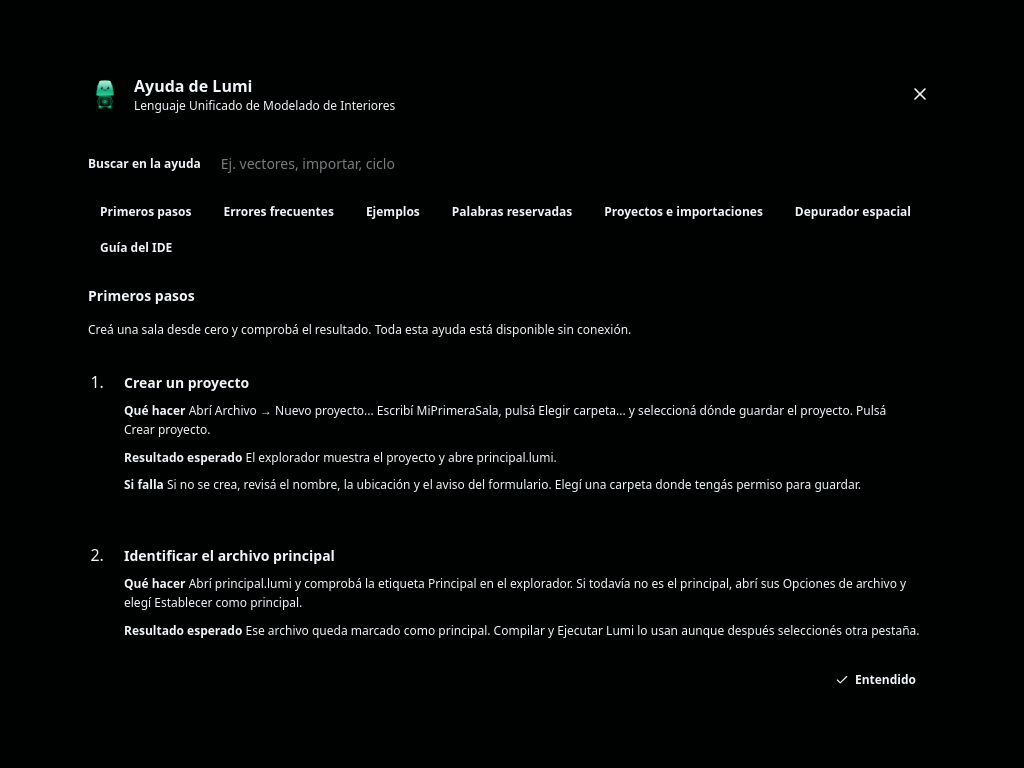
DocumentationModal › searches procedures and keeps their action, outcome and recovery available
Type "exportar" into the search field labelled "Buscar en la ayuda" at (572, 164), box [209,146,936,182]
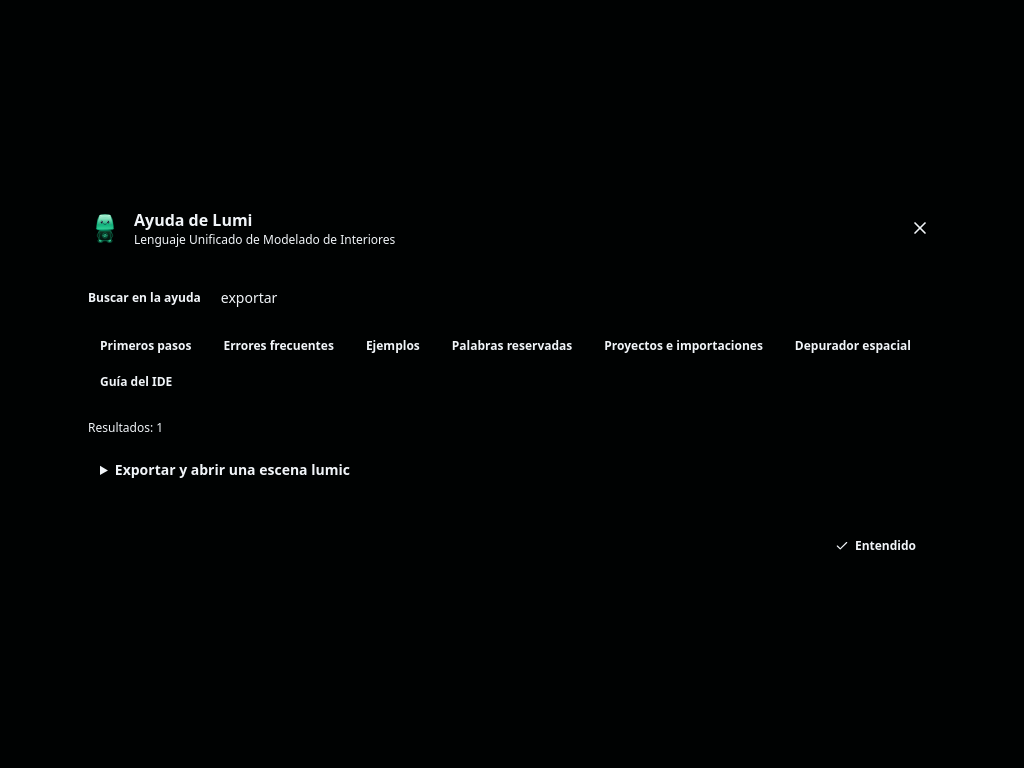
Click the heading "Exportar y abrir una escena lumic" at (232, 470), box [115,460,350,479]
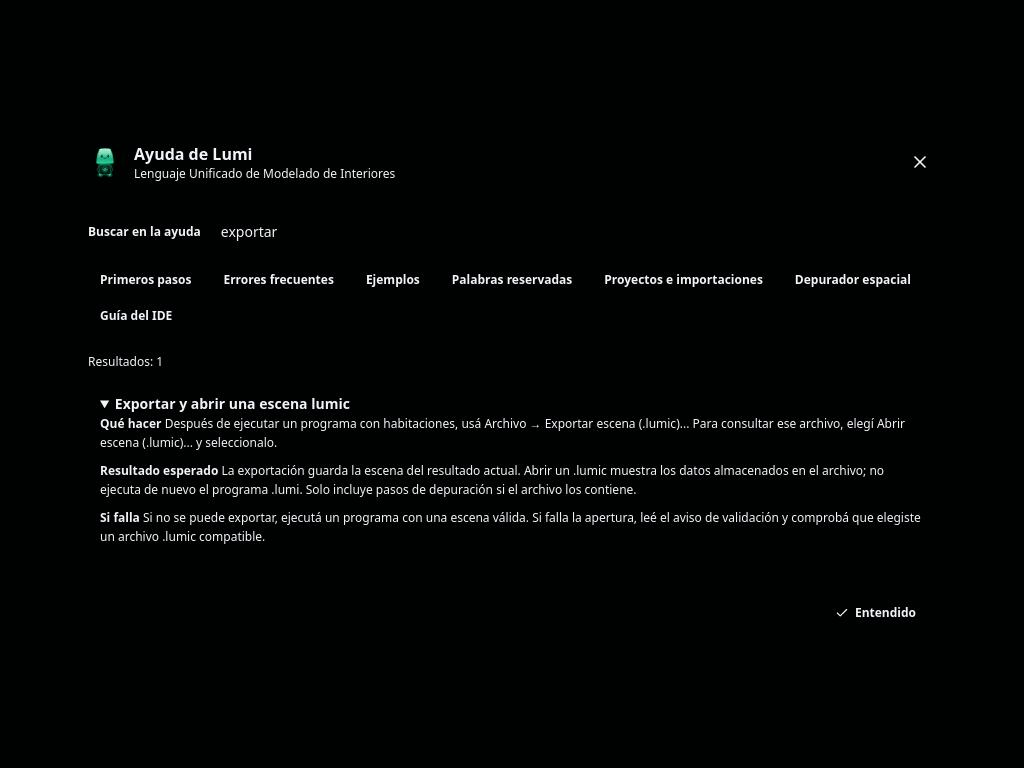
Expected: the text "Qué hacer" is shown, [100,414,162,432]
Expected: the text "Resultado esperado" is shown, [100,462,218,478]
Expected: the text "Si falla" is shown, [100,508,140,526]
Click the button "Primeros pasos" at (146, 280), box [88,266,204,294]
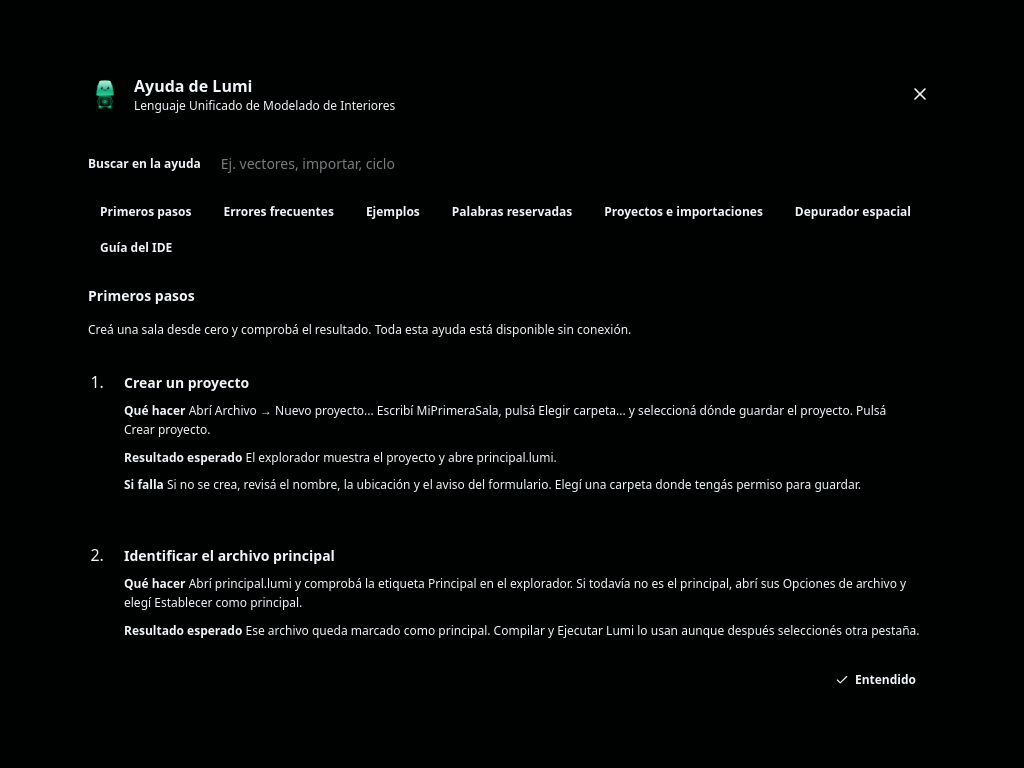
Expected: the search field is empty, [209,146,936,182]
Expected: the heading "Primeros pasos" is shown, [88,286,195,305]
